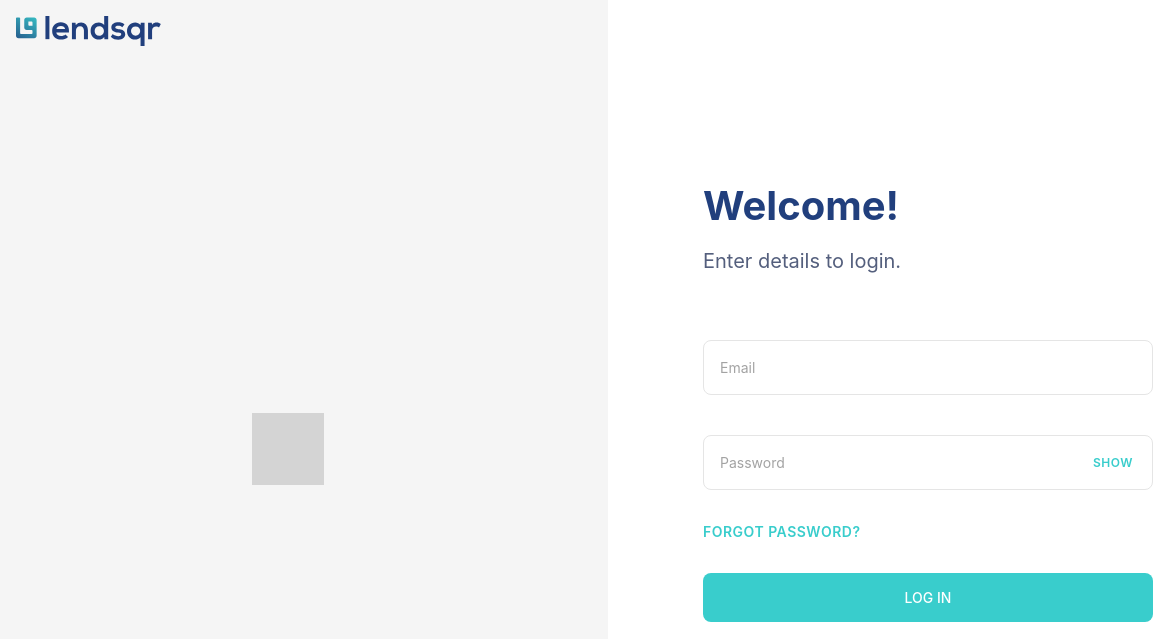
Login Page › should disable button while loading
Type "user@example.com" into the field with placeholder "Email". click: (928, 367)
box: [703,340,1153,395]
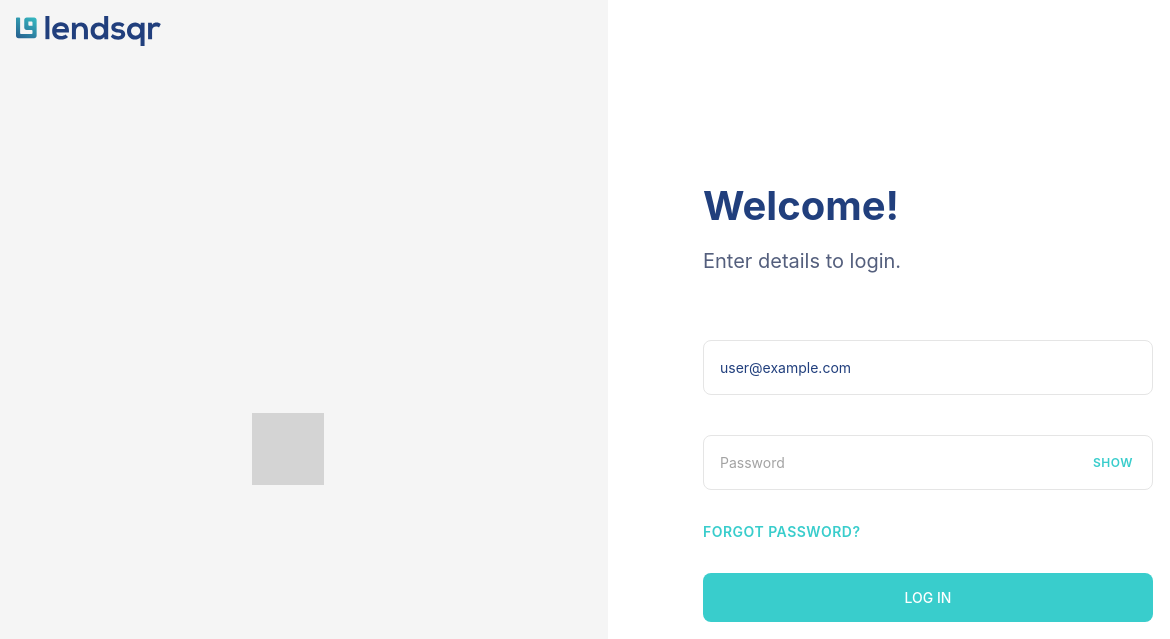
Type "password123" into the password field with placeholder "Password". click: (928, 462)
box: [703,435,1153,490]
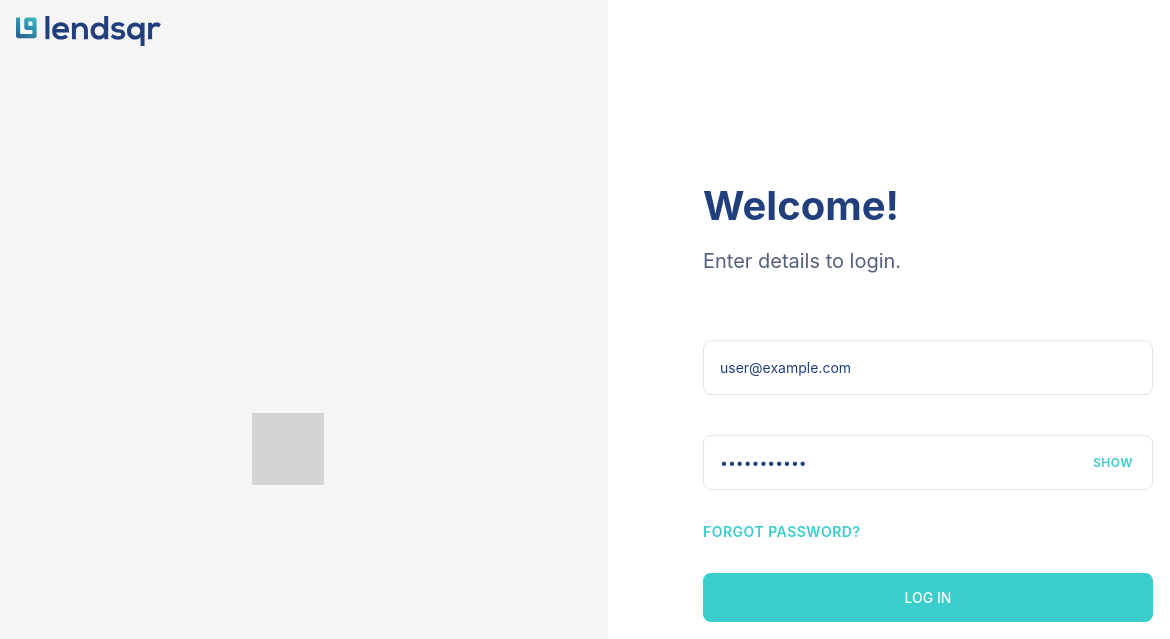
Click the button "LOG IN". click: (928, 598)
box: [703,573,1153,622]
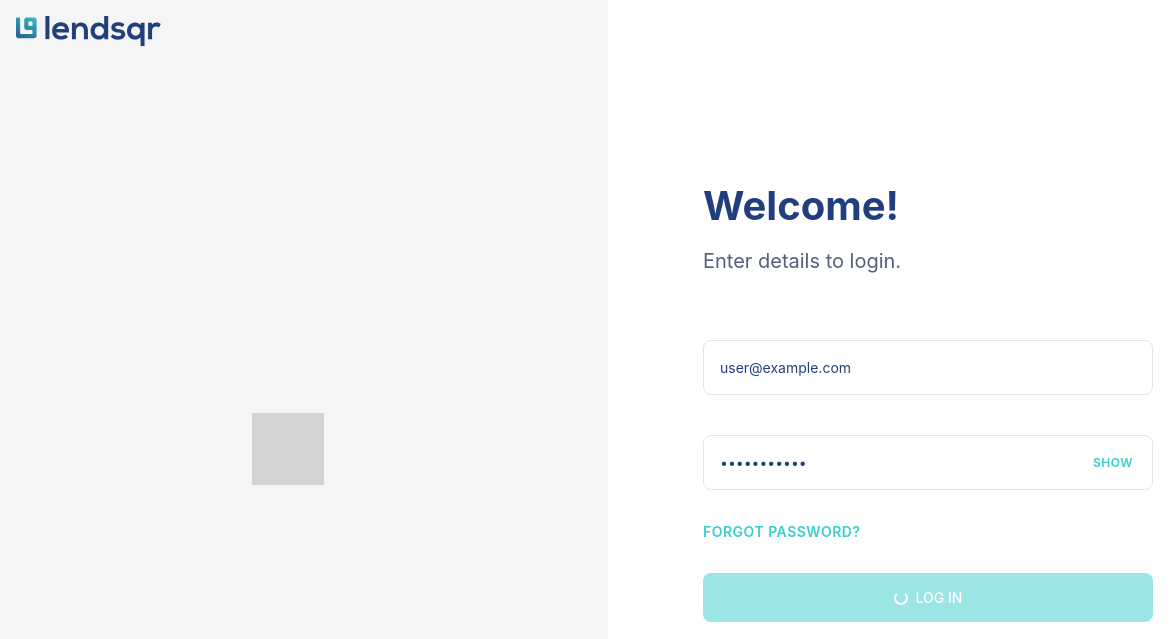
Expected: the button "LOG IN" is disabled, [703,573,1153,622]
